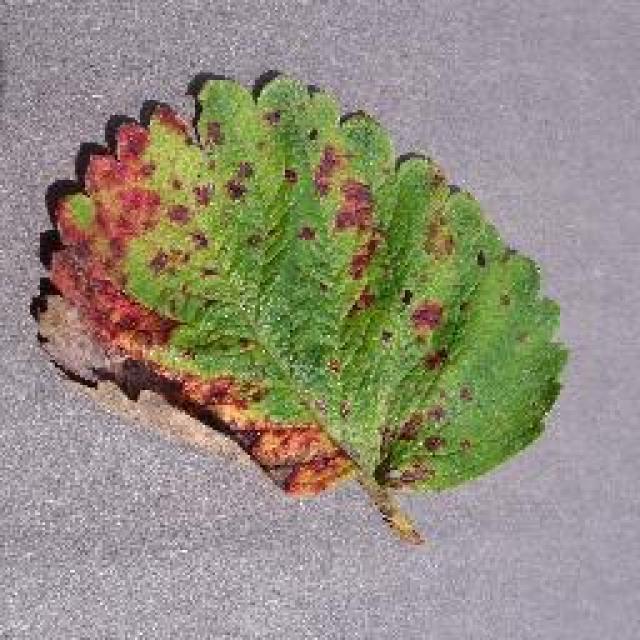Strawberry___Leaf_scorch: (20, 45, 580, 555)
